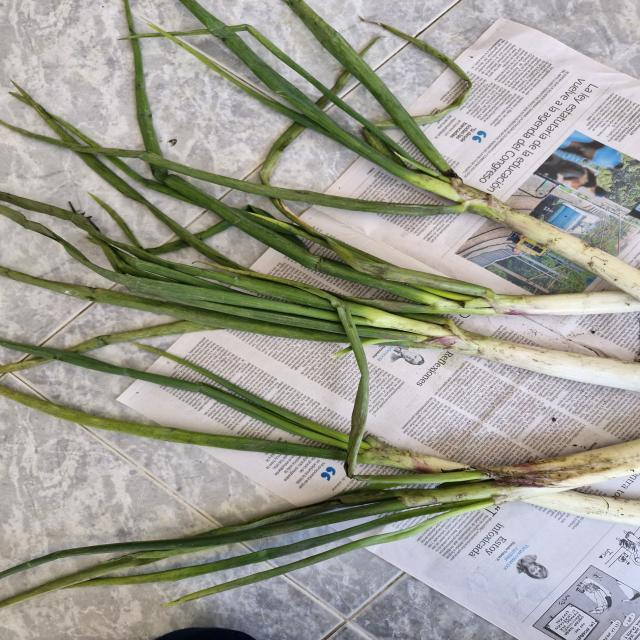green_onion: (0, 234, 640, 410), (389, 147, 640, 295)
